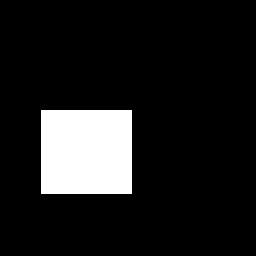rumex: (41, 110, 131, 193)
